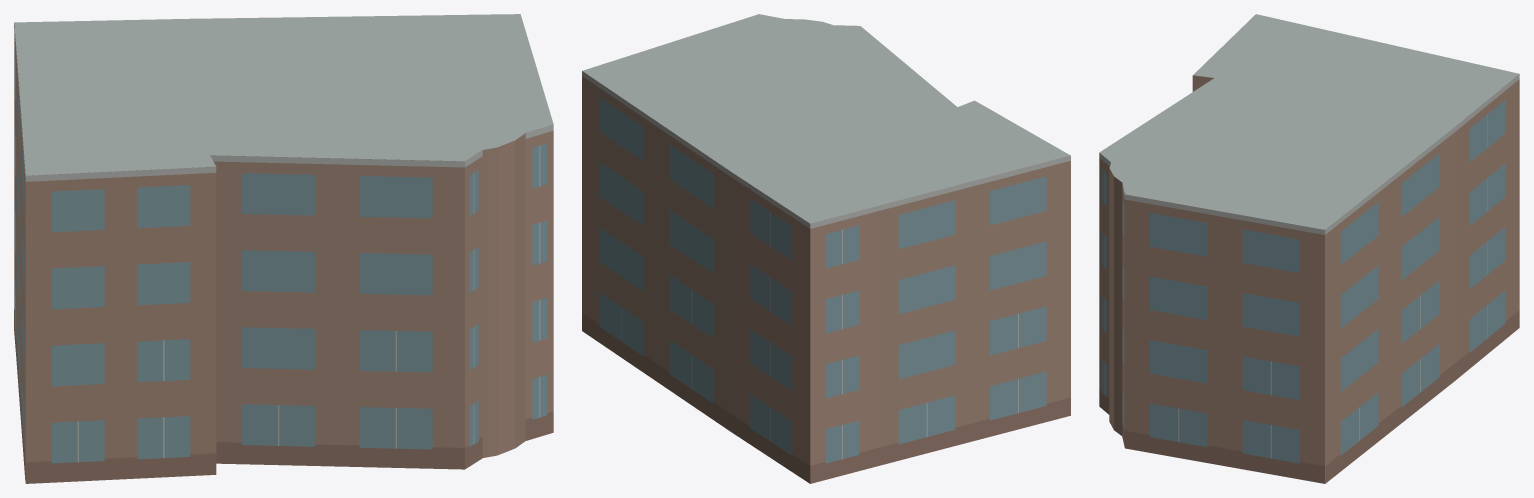
Rendered from survey-upis-32927426.glb.
3 renders of one model, left to right at view 1: azimuth 30°, elevation 25°; view 2: azimuth 150°, elevation 25°; view 3: azimuth 270°, elevation 25°, orthographic. The views are drawn at different scales.
Visible parts, largest first — view 1: survey-upis-32927426.tmp; view 2: survey-upis-32927426.tmp; view 3: survey-upis-32927426.tmp.
Boxes of the visible parts, left/top/right/bottom form: survey-upis-32927426.tmp: left=14, top=14, right=553, bottom=483; survey-upis-32927426.tmp: left=582, top=14, right=1070, bottom=483; survey-upis-32927426.tmp: left=1099, top=14, right=1519, bottom=483.
Size of the model in its own units: 22.26 by 12.2 by 18.31.
